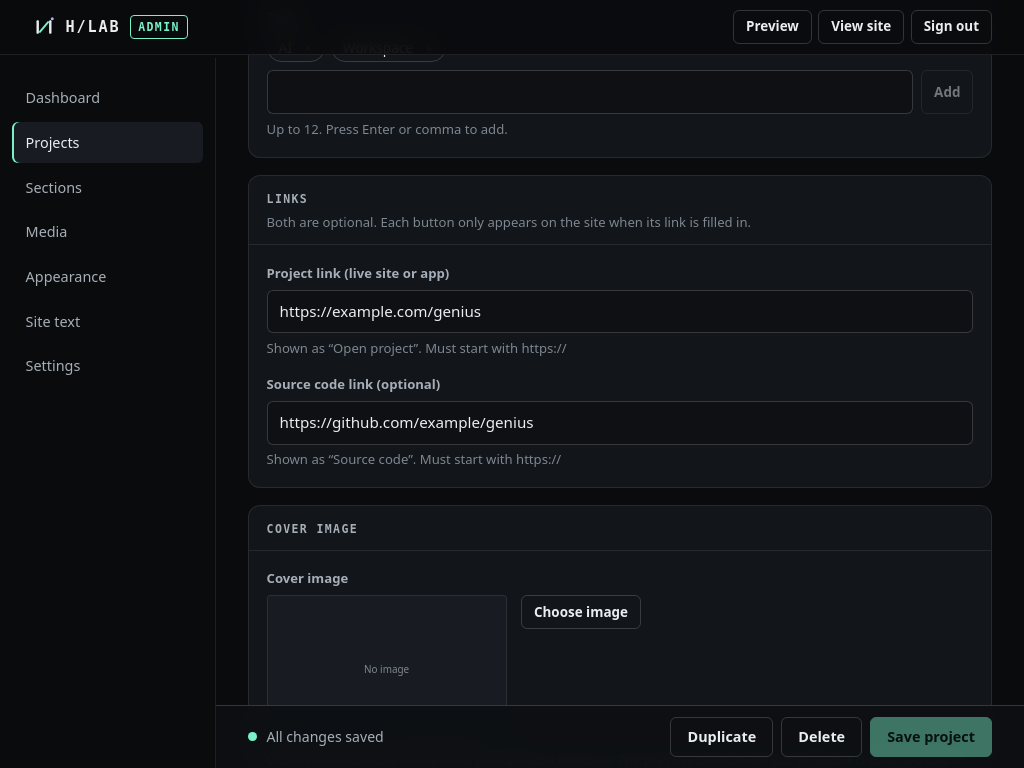
admin project editor: images and links › clearing a link removes it (stored as null, not an empty string)
(page scrolled)
Clear the field labelled "Source code link (optional)". click: point(620, 423)
box: [267,401,973,444]
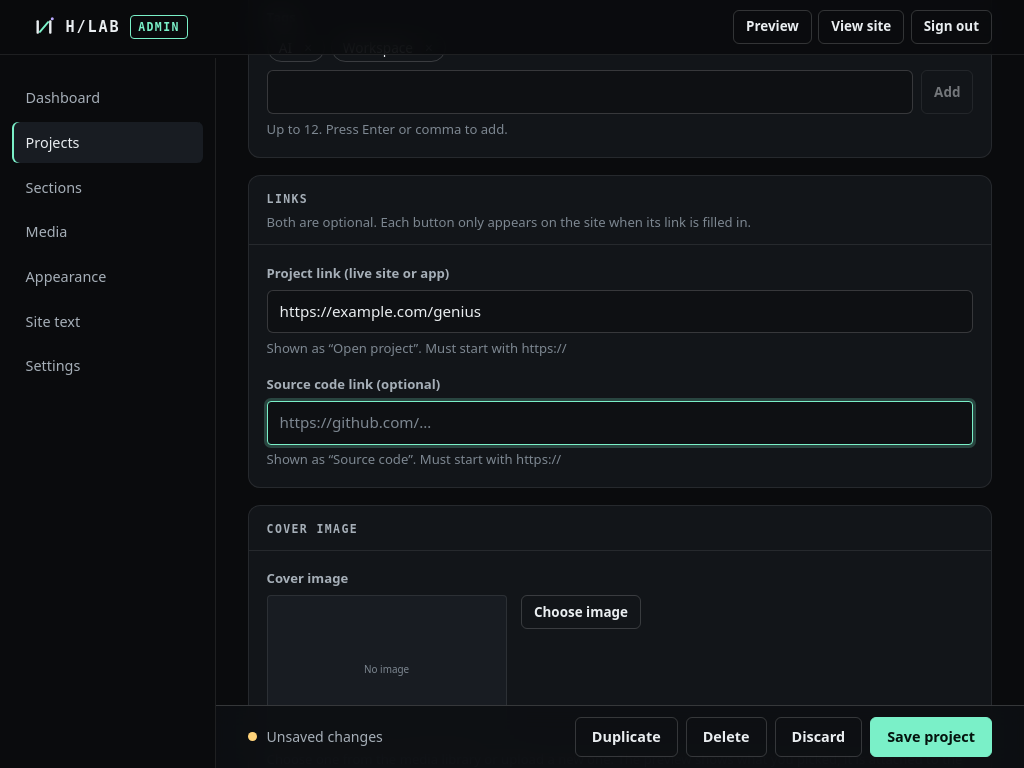
Click the button "Save project". click: point(931, 737)
box: [870,717,992,757]
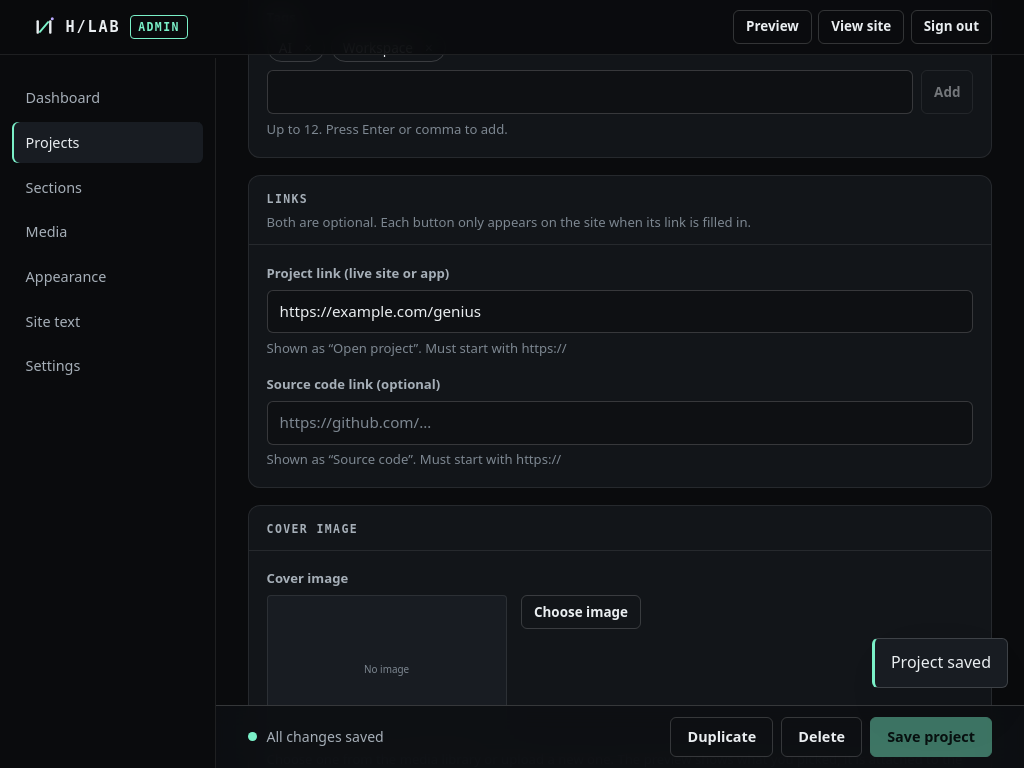
Result: the text "Project saved" is shown at [872,638,1008,688]
